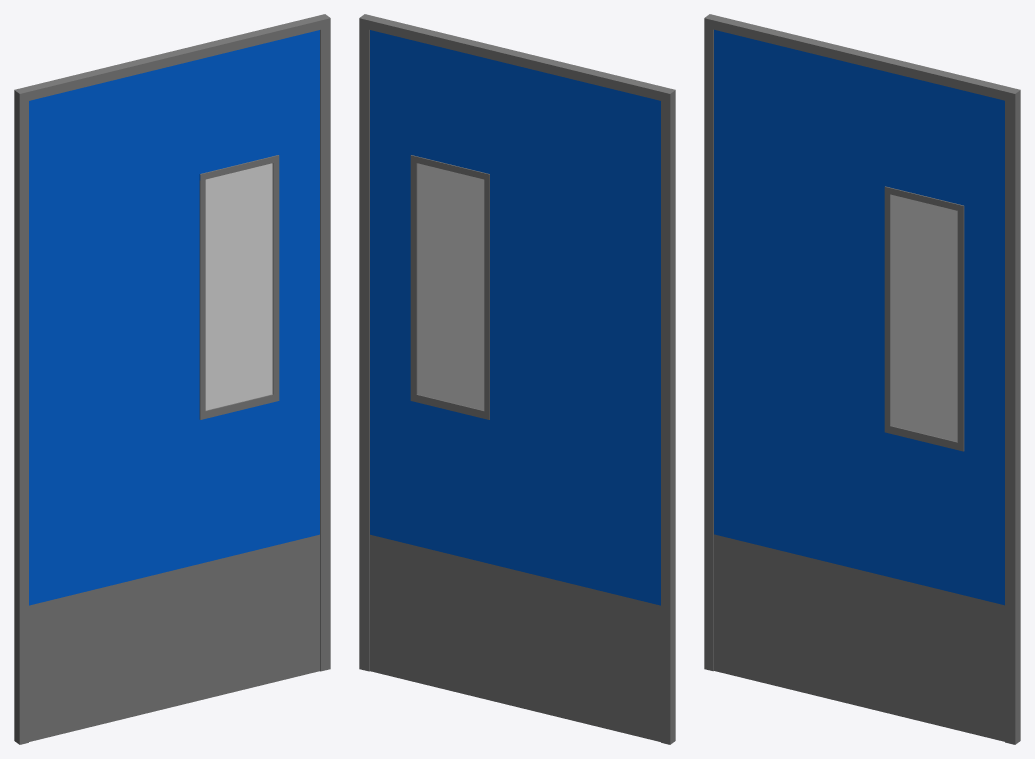
File: singledoor 1.fbx
The picture shows the model from 3 angles, left to right: view 1: azimuth 30°, elevation 25°; view 2: azimuth 150°, elevation 25°; view 3: azimuth 330°, elevation 25°; orthographic projection.
Parts seen in each view (by area): view 1: Cube; view 2: Cube; view 3: Cube.
Part boxes in pixels (x1,y1,x2,y2): Cube: (14, 14, 330, 744); Cube: (359, 14, 675, 744); Cube: (704, 14, 1020, 744).
Bounding box in the file's own units: 800 × 1600 × 25.12.
